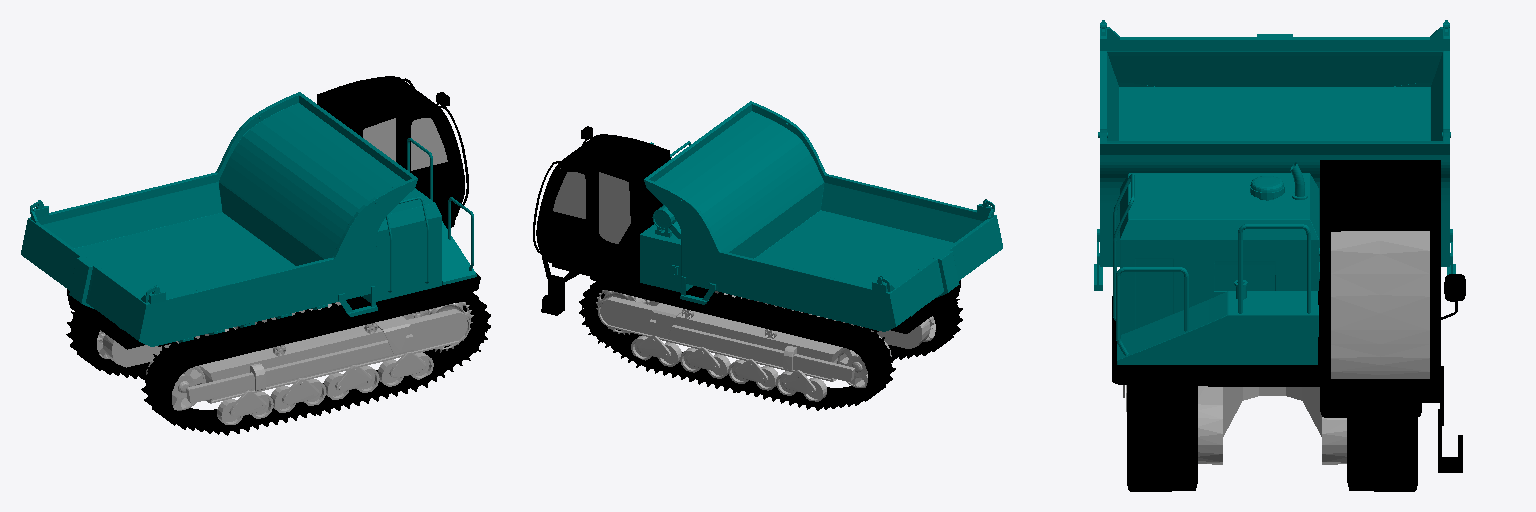
--- Facts derived from the render (not from the file) ---
3 views of the same robot in one strip: view 1: azimuth 30°, elevation 25°; view 2: azimuth 150°, elevation 25°; view 3: azimuth 270°, elevation 25° (orthographic).
Model ic120 with 34 links and 33 joints (6 revolute, 24 continuous, 3 fixed), rooted at base_link, posed every joint at zero.
Links seen in each view (by area): view 1: container_link, upper_frame_link, track_belt_link, track_frame_link, back_door_link, idler_R_link; view 2: container_link, upper_frame_link, track_belt_link, track_frame_link, back_door_link, idler_L_link; view 3: upper_frame_link, container_link, back_door_link, track_belt_link, track_frame_link.
Link boxes in pixels (<box>): container_link: <box>33,92,417,346</box>; upper_frame_link: <box>67,76,480,349</box>; track_belt_link: <box>66,292,490,435</box>; track_frame_link: <box>103,302,470,416</box>; back_door_link: <box>21,201,155,342</box>; idler_R_link: <box>172,366,205,410</box>; container_link: <box>644,101,991,331</box>; upper_frame_link: <box>533,126,960,333</box>; track_belt_link: <box>579,281,962,410</box>; track_frame_link: <box>598,291,930,393</box>; back_door_link: <box>881,200,1002,328</box>; idler_L_link: <box>837,348,867,387</box>; upper_frame_link: <box>1112,160,1465,472</box>; container_link: <box>1094,22,1455,290</box>; back_door_link: <box>1102,20,1447,87</box>; track_belt_link: <box>1127,385,1417,491</box>; track_frame_link: <box>1123,385,1346,464</box>.
Size in the robot's own frame: 5.8 by 3.08 by 3.03 metres.
36 mesh visuals loaded from 16 distinct referenced files (16 binary STL).

The robot description file, URDF, robot "ic120":
<?xml version="1.0" encoding="utf-8"?>
<!-- =================================================================================== -->
<!-- |    This document was autogenerated by xacro from ic120.xacro                    | -->
<!-- |    EDITING THIS FILE BY HAND IS NOT RECOMMENDED                                 | -->
<!-- =================================================================================== -->
<robot name="ic120">
  <!-- <xacro:property name="model_offset_x" value="-1.5" />
  <xacro:property name="model_offset_y" value="-3.1" /> -->
  <link name="base_link"/>
  <link name="track_frame_link">
    <visual>
      <geometry>
        <mesh filename="package://ic120_model/mesh_LowPoly/track_frame_LowPoly.stl"/>
      </geometry>
      <origin rpy="0 0 1.57079632675" xyz="3.1 -1.5 0"/>
      <material name="Gray">
        <color rgba="0.7 0.7 0.7 1.0"/>
      </material>
    </visual>
    <inertial>
      <mass value="1"/>
      <inertia ixx="1" ixy="0.0" ixz="0.0" iyy="1" iyz="0.0" izz="1"/>
    </inertial>
  </link>
  <joint name="track_frame_joint" type="fixed">
    <origin rpy="0 0 0" xyz="0 0 0"/>
    <parent link="base_link"/>
    <child link="track_frame_link"/>
    <axis xyz="0 0 1"/>
  </joint>
  <link name="track_belt_link">
    <visual>
      <geometry>
        <mesh filename="package://ic120_model/mesh_LowPoly/track_belt_LowPoly.stl"/>
      </geometry>
      <origin rpy="0 0 1.57079632675" xyz="3.1 -1.5 0"/>
      <material name="Black">
        <color rgba="0 0 0 1.0"/>
      </material>
    </visual>
    <inertial>
      <mass value="1"/>
      <inertia ixx="1" ixy="0.0" ixz="0.0" iyy="1" iyz="0.0" izz="1"/>
    </inertial>
  </link>
  <joint name="track_belt_joint" type="fixed">
    <origin rpy="0 0 0" xyz="0 0 0"/>
    <parent link="track_frame_link"/>
    <child link="track_belt_link"/>
    <axis xyz="0 0 1"/>
  </joint>
  <link name="upper_frame_link">
    <visual>
      <geometry>
        <mesh filename="package://ic120_model/mesh_LowPoly/upper_LowPoly.stl"/>
      </geometry>
      <origin rpy="0 0 1.57079632675" xyz="3.1 -1.5 0"/>
      <material name="Black">
        <color rgba="0 0 0 1.0"/>
      </material>
    </visual>
    <visual>
      <geometry>
        <mesh filename="package://ic120_model/mesh_LowPoly/cabin_LowPoly.stl"/>
      </geometry>
      <origin rpy="0 0 1.57079632675" xyz="3.1 -1.5 0"/>
      <material name="Black">
        <color rgba="0 0 0 1.0"/>
      </material>
    </visual>
    <visual>
      <geometry>
        <mesh filename="package://ic120_model/mesh_LowPoly/cabin_window_LowPoly.stl"/>
      </geometry>
      <origin rpy="0 0 1.57079632675" xyz="3.1 -1.5 0"/>
      <material name="Gray">
        <color rgba="0.7 0.7 0.7 0.2"/>
      </material>
    </visual>
    <visual>
      <geometry>
        <mesh filename="package://ic120_model/mesh_LowPoly/engine_LowPoly.stl"/>
      </geometry>
      <origin rpy="0 0 1.57079632675" xyz="3.1 -1.5 0"/>
      <material name="Teal">
        <color rgba="0 0.5 0.5 1.0"/>
      </material>
    </visual>
    <inertial>
      <mass value="1"/>
      <inertia ixx="1" ixy="0.0" ixz="0.0" iyy="1" iyz="0.0" izz="1"/>
    </inertial>
  </link>
  <joint name="upper_frame_joint" type="fixed">
    <origin rpy="0 0 0" xyz="0 0 0"/>
    <parent link="track_frame_link"/>
    <child link="upper_frame_link"/>
    <axis xyz="0 0 1"/>
  </joint>
  <link name="container_link">
    <visual>
      <geometry>
        <mesh filename="package://ic120_model/mesh_LowPoly/container_LowPoly.stl"/>
      </geometry>
      <origin rpy="0 1.57079632675 1.57079632675" xyz="5.4068 -1.5619 1.5034"/>
      <material name="Teal">
        <color rgba="0 0.5 0.5 1.0"/>
      </material>
    </visual>
    <inertial>
      <mass value="1"/>
      <inertia ixx="1" ixy="0.0" ixz="0.0" iyy="1" iyz="0.0" izz="1"/>
    </inertial>
  </link>
  <joint name="container_joint" type="revolute">
    <origin rpy="1.57079632675 0 0" xyz="-2.3068 0.0034 1.5619"/>
    <parent link="upper_frame_link"/>
    <child link="container_link"/>
    <axis xyz="0 0 1"/>
    <limit effort="100000" lower="-3.14" upper="3.14" velocity="100"/>
  </joint>
  <link name="back_door_link">
    <visual>
      <geometry>
        <mesh filename="package://ic120_model/mesh_LowPoly/back_door_LowPoly.stl"/>
      </geometry>
      <origin rpy="0 1.57079632675 1.57079632675" xyz="5.4766 -2.3816 1.5034"/>
      <material name="Teal">
        <color rgba="0 0.5 0.5 1.0"/>
      </material>
    </visual>
    <inertial>
      <mass value="1"/>
      <inertia ixx="1" ixy="0.0" ixz="0.0" iyy="1" iyz="0.0" izz="1"/>
    </inertial>
  </link>
  <joint name="back_door_joint" type="revolute">
    <origin rpy="0 0 0" xyz="-0.0698 0.8197 0"/>
    <parent link="container_link"/>
    <child link="back_door_link"/>
    <axis xyz="0 0 1"/>
    <limit effort="100000" lower="-3.14" upper="3.14" velocity="100"/>
  </joint>
  <link name="cylinder_L_link">
    <visual>
      <geometry>
        <mesh filename="package://ic120_model/mesh_LowPoly/cylinder_L_LowPoly.stl"/>
      </geometry>
      <origin rpy="0 1.57079632675 1.57079632675" xyz="5.0549 -1.3634 2.3016"/>
      <material name="Black">
        <color rgba="0 0 0 1.0"/>
      </material>
    </visual>
    <inertial>
      <mass value="1"/>
      <inertia ixx="1" ixy="0.0" ixz="0.0" iyy="1" iyz="0.0" izz="1"/>
    </inertial>
  </link>
  <joint name="cylinder_L_joint" type="revolute">
    <origin rpy="1.57079632675 0 0" xyz="-1.9549 0.8016 1.3634"/>
    <parent link="upper_frame_link"/>
    <child link="cylinder_L_link"/>
    <axis xyz="0 0 1"/>
    <limit effort="100000" lower="-3.14" upper="3.14" velocity="100"/>
  </joint>
  <link name="cylinder_R_link">
    <visual>
      <geometry>
        <mesh filename="package://ic120_model/mesh_LowPoly/cylinder_R_LowPoly.stl"/>
      </geometry>
      <origin rpy="0 1.57079632675 1.57079632675" xyz="5.0549 -1.3634 0.7006"/>
      <material name="Black">
        <color rgba="0 0 0 1.0"/>
      </material>
    </visual>
    <inertial>
      <mass value="1"/>
      <inertia ixx="1" ixy="0.0" ixz="0.0" iyy="1" iyz="0.0" izz="1"/>
    </inertial>
  </link>
  <joint name="cylinder_R_joint" type="revolute">
    <origin rpy="1.57079632675 0 0" xyz="-1.9549 -0.7994 1.3634"/>
    <parent link="upper_frame_link"/>
    <child link="cylinder_R_link"/>
    <axis xyz="0 0 1"/>
    <limit effort="100000" lower="-3.14" upper="3.14" velocity="100"/>
  </joint>
  <link name="rod_L_link">
    <visual>
      <geometry>
        <mesh filename="package://ic120_model/mesh_LowPoly/rod_L_LowPoly.stl"/>
      </geometry>
      <origin rpy="0 1.57079632675 1.57079632675" xyz="3.8283 -1.3754 2.3016"/>
      <material name="Gray">
        <color rgba="0.7 0.7 0.7 1.0"/>
      </material>
    </visual>
    <inertial>
      <mass value="1"/>
      <inertia ixx="1" ixy="0.0" ixz="0.0" iyy="1" iyz="0.0" izz="1"/>
    </inertial>
  </link>
  <!--
  cont -2.3068 0.0034 1.5619
  door -2.3766 0.0034 2.3817  -> -0.0698 0.8197 0.0
  rodL -0.7283 0.8016 1.3754  -> 1.5785 -0.1865 -0.7982  -> cw.x - pw.x , cw.z - pw.z,  -(cw.y - pw.y)
  -->
  <joint name="rod_L_joint" type="revolute">
    <origin rpy="0 0 0" xyz="1.5785 -0.1865 -0.7982"/>
    <parent link="container_link"/>
    <child link="rod_L_link"/>
    <axis xyz="0 0 1"/>
    <limit effort="100000" lower="-3.14" upper="3.14" velocity="100"/>
  </joint>
  <link name="rod_R_link">
    <visual>
      <geometry>
        <mesh filename="package://ic120_model/mesh_LowPoly/rod_R_LowPoly.stl"/>
      </geometry>
      <origin rpy="0 1.57079632675 1.57079632675" xyz="3.8283 -1.3754 0.7006"/>
      <material name="Gray">
        <color rgba="0.7 0.7 0.7 1.0"/>
      </material>
    </visual>
    <inertial>
      <mass value="1"/>
      <inertia ixx="1" ixy="0.0" ixz="0.0" iyy="1" iyz="0.0" izz="1"/>
    </inertial>
  </link>
  <!--
  cont -2.3068 0.0034 1.5619
  rodR -0.7283 -0.7994 1.375  -> 1.5785 -0.1865 0.8028  -> cw.x - pw.x , cw.z - pw.z,  -(cw.y - pw.y)
  -->
  <joint name="rod_R_joint" type="revolute">
    <origin rpy="0 0 0" xyz="1.5785 -0.1865 0.8028"/>
    <parent link="container_link"/>
    <child link="rod_R_link"/>
    <axis xyz="0 0 1"/>
    <limit effort="100000" lower="-3.14" upper="3.14" velocity="100"/>
  </joint>
  <!--
  <link name="cabin_link">
    <visual>
      <geometry>
        <mesh filename="package://ic120_model/mesh_LowPoly/cabin_LowPoly.stl"/>
      </geometry>
      <origin rpy="0 0 1.57079632675" xyz="3.1 -1.5 0"/>
      <material name="Black">
        <color rgba="0 0 0 1.0"/>
      </material>
    </visual>
    <inertial>
      <mass value="1"/>
      <inertia ixx="1" ixy="0.0" ixz="0.0" iyy="1" iyz="0.0" izz="1"/>
    </inertial>
  </link>
  <joint name="cabin_joint" type="fixed">
    <origin rpy="0 0 0" xyz="0 0 0"/>
    <parent link="track_frame_link"/>
    <child link="cabin_link"/>
    <axis xyz="0 0 1"/>
  </joint>
  <link name="cabin_window_link">
    <visual>
      <geometry>
        <mesh filename="package://ic120_model/mesh_LowPoly/cabin_window_LowPoly.stl"/>
      </geometry>
      <origin rpy="0 0 1.57079632675" xyz="3.1 -1.5 0"/>
      <material name="Gray">
        <color rgba="0.7 0.7 0.7 0.2"/>
      </material>
    </visual>
    <inertial>
      <mass value="1"/>
      <inertia ixx="1" ixy="0.0" ixz="0.0" iyy="1" iyz="0.0" izz="1"/>
    </inertial>
  </link>
  <joint name="cabin_window_joint" type="fixed">
    <origin rpy="0 0 0" xyz="0 0 0"/>
    <parent link="track_frame_link"/>
    <child link="cabin_window_link"/>
    <axis xyz="0 0 1"/>
  </joint>
  -->
  
  <!-- Sprockets -->
  
  <link name="sprocket_L_link">
    <visual>
      <geometry>
        <mesh filename="package://ic120_model/mesh_LowPoly/sprocket_LowPoly.stl"/>
      </geometry>
      <origin rpy="0 0 0" xyz="0 0 0"/>
      <material name="Gray">
        <color rgba="0.7 0.7 0.7 1.0"/>
      </material>
    </visual>
    <inertial>
      <mass value="1"/>
      <inertia ixx="1" ixy="0.0" ixz="0.0" iyy="1" iyz="0.0" izz="1"/>
    </inertial>
  </link>
  <joint name="sprocket_L_joint" type="continuous">
    <origin rpy="0 0 0" xyz="1.9759 0.8208 0.7054"/>
    <parent link="track_frame_link"/>
    <child link="sprocket_L_link"/>
    <axis xyz="0 1 0"/>
  </joint>
  <link name="sprocket_R_link">
    <visual>
      <geometry>
        <mesh filename="package://ic120_model/mesh_LowPoly/sprocket_LowPoly.stl"/>
      </geometry>
      <origin rpy="0 0 3.14159265359" xyz="0 0 0"/>
      <material name="Gray">
        <color rgba="0.7 0.7 0.7 1.0"/>
      </material>
    </visual>
    <inertial>
      <mass value="1"/>
      <inertia ixx="1" ixy="0.0" ixz="0.0" iyy="1" iyz="0.0" izz="1"/>
    </inertial>
  </link>
  <joint name="sprocket_R_joint" type="continuous">
    <origin rpy="0 0 0" xyz="1.9759 -0.8606 0.7054"/>
    <parent link="track_frame_link"/>
    <child link="sprocket_R_link"/>
    <axis xyz="0 1 0"/>
  </joint>
  
  <!-- Idlers -->
  
  <link name="idler_L_link">
    <visual>
      <geometry>
        <mesh filename="package://ic120_model/mesh_LowPoly/idler_LowPoly.stl"/>
      </geometry>
      <origin rpy="0 0 0" xyz="0 0 0"/>
      <material name="Gray">
        <color rgba="0.7 0.7 0.7 1.0"/>
      </material>
    </visual>
    <inertial>
      <mass value="1"/>
      <inertia ixx="1" ixy="0.0" ixz="0.0" iyy="1" iyz="0.0" izz="1"/>
    </inertial>
  </link>
  <joint name="idler_L_joint" type="continuous">
    <origin rpy="0 0 0" xyz="-1.7352 0.8208 0.7175"/>
    <parent link="track_frame_link"/>
    <child link="idler_L_link"/>
    <axis xyz="0 1 0"/>
  </joint>
  <link name="idler_R_link">
    <visual>
      <geometry>
        <mesh filename="package://ic120_model/mesh_LowPoly/idler_LowPoly.stl"/>
      </geometry>
      <origin rpy="0 0 3.14159265359" xyz="0 0 0"/>
      <material name="Gray">
        <color rgba="0.7 0.7 0.7 1.0"/>
      </material>
    </visual>
    <inertial>
      <mass value="1"/>
      <inertia ixx="1" ixy="0.0" ixz="0.0" iyy="1" iyz="0.0" izz="1"/>
    </inertial>
  </link>
  <joint name="idler_R_joint" type="continuous">
    <origin rpy="0 0 0" xyz="-1.7352 -0.8606 0.7175"/>
    <parent link="track_frame_link"/>
    <child link="idler_R_link"/>
    <axis xyz="0 1 0"/>
  </joint>
  
  <!-- Carrier Rollers -->
  
  <link name="carrier_roller_L1_link">
    <visual>
      <geometry>
        <mesh filename="package://ic120_model/mesh_LowPoly/carrier_roller_LowPoly.stl"/>
      </geometry>
      <origin rpy="0 0 0" xyz="0 0.2849 0"/>
      <material name="Gray">
        <color rgba="0.7 0.7 0.7 1.0"/>
      </material>
    </visual>
    <inertial>
      <mass value="1"/>
      <inertia ixx="1" ixy="0.0" ixz="0.0" iyy="1" iyz="0.0" izz="1"/>
    </inertial>
  </link>
  <joint name="carrier_roller_L1_joint" type="continuous">
    <origin rpy="0 0 0" xyz="0.8101 0.8208 0.9976"/>
    <parent link="track_frame_link"/>
    <child link="carrier_roller_L1_link"/>
    <axis xyz="0 1 0"/>
  </joint>
  <link name="carrier_roller_L2_link">
    <visual>
      <geometry>
        <mesh filename="package://ic120_model/mesh_LowPoly/carrier_roller_LowPoly.stl"/>
      </geometry>
      <origin rpy="0 0 0" xyz="0 0.2849 0"/>
      <material name="Gray">
        <color rgba="0.7 0.7 0.7 1.0"/>
      </material>
    </visual>
    <inertial>
      <mass value="1"/>
      <inertia ixx="1" ixy="0.0" ixz="0.0" iyy="1" iyz="0.0" izz="1"/>
    </inertial>
  </link>
  <joint name="carrier_roller_L2_joint" type="continuous">
    <origin rpy="0 0 0" xyz="-0.4839 0.8208 0.9976"/>
    <parent link="track_frame_link"/>
    <child link="carrier_roller_L2_link"/>
    <axis xyz="0 1 0"/>
  </joint>
  <link name="carrier_roller_R1_link">
    <visual>
      <geometry>
        <mesh filename="package://ic120_model/mesh_LowPoly/carrier_roller_LowPoly.stl"/>
      </geometry>
      <origin rpy="0 0 3.14159265359" xyz="0 -0.2849 0"/>
      <material name="Gray">
        <color rgba="0.7 0.7 0.7 1.0"/>
      </material>
    </visual>
    <inertial>
      <mass value="1"/>
      <inertia ixx="1" ixy="0.0" ixz="0.0" iyy="1" iyz="0.0" izz="1"/>
    </inertial>
  </link>
  <joint name="carrier_roller_R1_joint" type="continuous">
    <origin rpy="0 0 0" xyz="0.8101 -0.8606 0.9976"/>
    <parent link="track_frame_link"/>
    <child link="carrier_roller_R1_link"/>
    <axis xyz="0 1 0"/>
  </joint>
  <link name="carrier_roller_R2_link">
    <visual>
      <geometry>
        <mesh filename="package://ic120_model/mesh_LowPoly/carrier_roller_LowPoly.stl"/>
      </geometry>
      <origin rpy="0 0 3.14159265359" xyz="0 -0.2849 0"/>
      <material name="Gray">
        <color rgba="0.7 0.7 0.7 1.0"/>
      </material>
    </visual>
    <inertial>
      <mass value="1"/>
      <inertia ixx="1" ixy="0.0" ixz="0.0" iyy="1" iyz="0.0" izz="1"/>
    </inertial>
  </link>
  <joint name="carrier_roller_R2_joint" type="continuous">
    <origin rpy="0 0 0" xyz="-0.4839 -0.8606 0.9976"/>
    <parent link="track_frame_link"/>
    <child link="carrier_roller_R2_link"/>
    <axis xyz="0 1 0"/>
  </joint>
  
  <!-- Track Rollers -->
  
  <link name="track_roller_L1_link">
    <visual>
      <geometry>
        <mesh filename="package://ic120_model/mesh_LowPoly/track_roller_LowPoly.stl"/>
      </geometry>
      <origin rpy="0 0 0" xyz="0 0.2562 0"/>
      <material name="Gray">
        <color rgba="0.7 0.7 0.7 1.0"/>
      </material>
    </visual>
    <inertial>
      <mass value="1"/>
      <inertia ixx="1" ixy="0.0" ixz="0.0" iyy="1" iyz="0.0" izz="1"/>
    </inertial>
  </link>
  <joint name="track_roller_L1_joint" type="continuous">
    <origin rpy="0 0 0" xyz="1.5129 0.8208 0.303"/>
    <parent link="track_frame_link"/>
    <child link="track_roller_L1_link"/>
    <axis xyz="0 1 0"/>
  </joint>
  <link name="track_roller_L2_link">
    <visual>
      <geometry>
        <mesh filename="package://ic120_model/mesh_LowPoly/track_roller_LowPoly.stl"/>
      </geometry>
      <origin rpy="0 0 0" xyz="0 0.2562 0"/>
      <material name="Gray">
        <color rgba="0.7 0.7 0.7 1.0"/>
      </material>
    </visual>
    <inertial>
      <mass value="1"/>
      <inertia ixx="1" ixy="0.0" ixz="0.0" iyy="1" iyz="0.0" izz="1"/>
    </inertial>
  </link>
  <joint name="track_roller_L2_joint" type="continuous">
    <origin rpy="0 0 0" xyz="1.1056 0.8208 0.303"/>
    <parent link="track_frame_link"/>
    <child link="track_roller_L2_link"/>
    <axis xyz="0 1 0"/>
  </joint>
  <link name="track_roller_L3_link">
    <visual>
      <geometry>
        <mesh filename="package://ic120_model/mesh_LowPoly/track_roller_LowPoly.stl"/>
      </geometry>
      <origin rpy="0 0 0" xyz="0 0.2562 0"/>
      <material name="Gray">
        <color rgba="0.7 0.7 0.7 1.0"/>
      </material>
    </visual>
    <inertial>
      <mass value="1"/>
      <inertia ixx="1" ixy="0.0" ixz="0.0" iyy="1" iyz="0.0" izz="1"/>
    </inertial>
  </link>
  <joint name="track_roller_L3_joint" type="continuous">
    <origin rpy="0 0 0" xyz="0.7478 0.8208 0.303"/>
    <parent link="track_frame_link"/>
    <child link="track_roller_L3_link"/>
    <axis xyz="0 1 0"/>
  </joint>
  <link name="track_roller_L4_link">
    <visual>
      <geometry>
        <mesh filename="package://ic120_model/mesh_LowPoly/track_roller_LowPoly.stl"/>
      </geometry>
      <origin rpy="0 0 0" xyz="0 0.2562 0"/>
      <material name="Gray">
        <color rgba="0.7 0.7 0.7 1.0"/>
      </material>
    </visual>
    <inertial>
      <mass value="1"/>
      <inertia ixx="1" ixy="0.0" ixz="0.0" iyy="1" iyz="0.0" izz="1"/>
    </inertial>
  </link>
  <joint name="track_roller_L4_joint" type="continuous">
    <origin rpy="0 0 0" xyz="0.3398 0.8208 0.303"/>
    <parent link="track_frame_link"/>
    <child link="track_roller_L4_link"/>
    <axis xyz="0 1 0"/>
  </joint>
  <link name="track_roller_L5_link">
    <visual>
      <geometry>
        <mesh filename="package://ic120_model/mesh_LowPoly/track_roller_LowPoly.stl"/>
      </geometry>
      <origin rpy="0 0 0" xyz="0 0.2562 0"/>
      <material name="Gray">
        <color rgba="0.7 0.7 0.7 1.0"/>
      </material>
    </visual>
    <inertial>
      <mass value="1"/>
      <inertia ixx="1" ixy="0.0" ixz="0.0" iyy="1" iyz="0.0" izz="1"/>
    </inertial>
  </link>
  <joint name="track_roller_L5_joint" type="continuous">
    <origin rpy="0 0 0" xyz="-0.0025 0.8208 0.303"/>
    <parent link="track_frame_link"/>
    <child link="track_roller_L5_link"/>
    <axis xyz="0 1 0"/>
  </joint>
  <link name="track_roller_L6_link">
    <visual>
      <geometry>
        <mesh filename="package://ic120_model/mesh_LowPoly/track_roller_LowPoly.stl"/>
      </geometry>
      <origin rpy="0 0 0" xyz="0 0.2562 0"/>
      <material name="Gray">
        <color rgba="0.7 0.7 0.7 1.0"/>
      </material>
    </visual>
    <inertial>
      <mass value="1"/>
      <inertia ixx="1" ixy="0.0" ixz="0.0" iyy="1" iyz="0.0" izz="1"/>
    </inertial>
  </link>
  <joint name="track_roller_L6_joint" type="continuous">
    <origin rpy="0 0 0" xyz="-0.4095 0.8208 0.303"/>
    <parent link="track_frame_link"/>
    <child link="track_roller_L6_link"/>
    <axis xyz="0 1 0"/>
  </joint>
  <link name="track_roller_L7_link">
    <visual>
      <geometry>
        <mesh filename="package://ic120_model/mesh_LowPoly/track_roller_LowPoly.stl"/>
      </geometry>
      <origin rpy="0 0 0" xyz="0 0.2562 0"/>
      <material name="Gray">
        <color rgba="0.7 0.7 0.7 1.0"/>
      </material>
    </visual>
    <inertial>
      <mass value="1"/>
      <inertia ixx="1" ixy="0.0" ixz="0.0" iyy="1" iyz="0.0" izz="1"/>
    </inertial>
  </link>
  <joint name="track_roller_L7_joint" type="continuous">
    <origin rpy="0 0 0" xyz="-0.7454 0.8208 0.303"/>
    <parent link="track_frame_link"/>
    <child link="track_roller_L7_link"/>
    <axis xyz="0 1 0"/>
  </joint>
  <link name="track_roller_L8_link">
    <visual>
      <geometry>
        <mesh filename="package://ic120_model/mesh_LowPoly/track_roller_LowPoly.stl"/>
      </geometry>
      <origin rpy="0 0 0" xyz="0 0.2562 0"/>
      <material name="Gray">
        <color rgba="0.7 0.7 0.7 1.0"/>
      </material>
    </visual>
    <inertial>
      <mass value="1"/>
      <inertia ixx="1" ixy="0.0" ixz="0.0" iyy="1" iyz="0.0" izz="1"/>
    </inertial>
  </link>
  <joint name="track_roller_L8_joint" type="continuous">
    <origin rpy="0 0 0" xyz="-1.1586 0.8208 0.303"/>
    <parent link="track_frame_link"/>
    <child link="track_roller_L8_link"/>
    <axis xyz="0 1 0"/>
  </joint>
  
  <link name="track_roller_R1_link">
    <visual>
      <geometry>
        <mesh filename="package://ic120_model/mesh_LowPoly/track_roller_LowPoly.stl"/>
      </geometry>
      <origin rpy="0 0 3.14159265359" xyz="0 -0.2562 0"/>
      <material name="Gray">
        <color rgba="0.7 0.7 0.7 1.0"/>
      </material>
    </visual>
    <inertial>
      <mass value="1"/>
      <inertia ixx="1" ixy="0.0" ixz="0.0" iyy="1" iyz="0.0" izz="1"/>
    </inertial>
  </link>
  <joint name="track_roller_R1_joint" type="continuous">
    <origin rpy="0 0 0" xyz="1.5129 -0.8606 0.303"/>
    <parent link="track_frame_link"/>
    <child link="track_roller_R1_link"/>
    <axis xyz="0 1 0"/>
  </joint>
  <link name="track_roller_R2_link">
    <visual>
      <geometry>
        <mesh filename="package://ic120_model/mesh_LowPoly/track_roller_LowPoly.stl"/>
      </geometry>
      <origin rpy="0 0 3.14159265359" xyz="0 -0.2562 0"/>
      <material name="Gray">
        <color rgba="0.7 0.7 0.7 1.0"/>
      </material>
    </visual>
    <inertial>
      <mass value="1"/>
      <inertia ixx="1" ixy="0.0" ixz="0.0" iyy="1" iyz="0.0" izz="1"/>
    </inertial>
  </link>
  <joint name="track_roller_R2_joint" type="continuous">
    <origin rpy="0 0 0" xyz="1.1056 -0.8606 0.303"/>
    <parent link="track_frame_link"/>
    <child link="track_roller_R2_link"/>
    <axis xyz="0 1 0"/>
  </joint>
  <link name="track_roller_R3_link">
    <visual>
      <geometry>
        <mesh filename="package://ic120_model/mesh_LowPoly/track_roller_LowPoly.stl"/>
      </geometry>
      <origin rpy="0 0 3.14159265359" xyz="0 -0.2562 0"/>
      <material name="Gray">
        <color rgba="0.7 0.7 0.7 1.0"/>
      </material>
    </visual>
    <inertial>
      <mass value="1"/>
      <inertia ixx="1" ixy="0.0" ixz="0.0" iyy="1" iyz="0.0" izz="1"/>
    </inertial>
  </link>
  <joint name="track_roller_R3_joint" type="continuous">
    <origin rpy="0 0 0" xyz="0.7478 -0.8606 0.303"/>
    <parent link="track_frame_link"/>
    <child link="track_roller_R3_link"/>
    <axis xyz="0 1 0"/>
  </joint>
  <link name="track_roller_R4_link">
    <visual>
      <geometry>
        <mesh filename="package://ic120_model/mesh_LowPoly/track_roller_LowPoly.stl"/>
      </geometry>
      <origin rpy="0 0 3.14159265359" xyz="0 -0.2562 0"/>
      <material name="Gray">
        <color rgba="0.7 0.7 0.7 1.0"/>
      </material>
    </visual>
    <inertial>
      <mass value="1"/>
      <inertia ixx="1" ixy="0.0" ixz="0.0" iyy="1" iyz="0.0" izz="1"/>
    </inertial>
  </link>
  <joint name="track_roller_R4_joint" type="continuous">
    <origin rpy="0 0 0" xyz="0.3398 -0.8606 0.303"/>
    <parent link="track_frame_link"/>
    <child link="track_roller_R4_link"/>
    <axis xyz="0 1 0"/>
  </joint>
  <link name="track_roller_R5_link">
    <visual>
      <geometry>
        <mesh filename="package://ic120_model/mesh_LowPoly/track_roller_LowPoly.stl"/>
      </geometry>
      <origin rpy="0 0 3.14159265359" xyz="0 -0.2562 0"/>
      <material name="Gray">
        <color rgba="0.7 0.7 0.7 1.0"/>
      </material>
    </visual>
    <inertial>
      <mass value="1"/>
      <inertia ixx="1" ixy="0.0" ixz="0.0" iyy="1" iyz="0.0" izz="1"/>
    </inertial>
  </link>
  <joint name="track_roller_R5_joint" type="continuous">
    <origin rpy="0 0 0" xyz="-0.0025 -0.8606 0.303"/>
    <parent link="track_frame_link"/>
    <child link="track_roller_R5_link"/>
    <axis xyz="0 1 0"/>
  </joint>
  <link name="track_roller_R6_link">
    <visual>
      <geometry>
        <mesh filename="package://ic120_model/mesh_LowPoly/track_roller_LowPoly.stl"/>
      </geometry>
      <origin rpy="0 0 3.14159265359" xyz="0 -0.2562 0"/>
      <material name="Gray">
        <color rgba="0.7 0.7 0.7 1.0"/>
      </material>
    </visual>
    <inertial>
      <mass value="1"/>
      <inertia ixx="1" ixy="0.0" ixz="0.0" iyy="1" iyz="0.0" izz="1"/>
    </inertial>
  </link>
  <joint name="track_roller_R6_joint" type="continuous">
    <origin rpy="0 0 0" xyz="-0.4095 -0.8606 0.303"/>
    <parent link="track_frame_link"/>
    <child link="track_roller_R6_link"/>
    <axis xyz="0 1 0"/>
  </joint>
  <link name="track_roller_R7_link">
    <visual>
      <geometry>
        <mesh filename="package://ic120_model/mesh_LowPoly/track_roller_LowPoly.stl"/>
      </geometry>
      <origin rpy="0 0 3.14159265359" xyz="0 -0.2562 0"/>
      <material name="Gray">
        <color rgba="0.7 0.7 0.7 1.0"/>
      </material>
    </visual>
    <inertial>
      <mass value="1"/>
      <inertia ixx="1" ixy="0.0" ixz="0.0" iyy="1" iyz="0.0" izz="1"/>
    </inertial>
  </link>
  <joint name="track_roller_R7_joint" type="continuous">
    <origin rpy="0 0 0" xyz="-0.7454 -0.8606 0.303"/>
    <parent link="track_frame_link"/>
    <child link="track_roller_R7_link"/>
    <axis xyz="0 1 0"/>
  </joint>
  <link name="track_roller_R8_link">
    <visual>
      <geometry>
        <mesh filename="package://ic120_model/mesh_LowPoly/track_roller_LowPoly.stl"/>
      </geometry>
      <origin rpy="0 0 3.14159265359" xyz="0 -0.2562 0"/>
      <material name="Gray">
        <color rgba="0.7 0.7 0.7 1.0"/>
      </material>
    </visual>
    <inertial>
      <mass value="1"/>
      <inertia ixx="1" ixy="0.0" ixz="0.0" iyy="1" iyz="0.0" izz="1"/>
    </inertial>
  </link>
  <joint name="track_roller_R8_joint" type="continuous">
    <origin rpy="0 0 0" xyz="-1.1586 -0.8606 0.303"/>
    <parent link="track_frame_link"/>
    <child link="track_roller_R8_link"/>
    <axis xyz="0 1 0"/>
  </joint>
  
  <!--
  <link name="vessel_pin_link">
    <visual>
      <geometry>
        <box size="0.001 0.001 0.001"/>
      </geometry>
      <origin rpy="0 0 0" xyz="0 0 0"/>
      <material name="Gray">
        <color rgba="0.7 0.7 0.7 0.2"/>
      </material>
    </visual>
    <inertial>
      <origin xyz="0 0 0"/>
      <mass value="1.0e-03"/>
      <inertia ixx="1.0e-03" ixy="0.0" ixz="0.0" iyy="1.0e-03" iyz="0.0" izz="1.0e-03"/>
    </inertial>
  </link>
  <joint name="vessel_pin_joint" type="revolute">
    <origin rpy="0 0 0" xyz="-2 0 1.5"/>
    <parent link="base_link"/>
    <child link="vessel_pin_link"/>
    <axis xyz="0 1 0"/>
    <limit effort="1" lower="-3.14" upper="0" velocity="0.5"/>
  </joint>
  <link name="vessel_middle_link"/>
  <joint name="vessel_middle_joint" type="fixed">
    <origin rpy="0 0 0" xyz="1 0 1"/>
    <parent link="vessel_pin_link"/>
    <child link="vessel_middle_link"/>
  </joint>
  -->
</robot>
